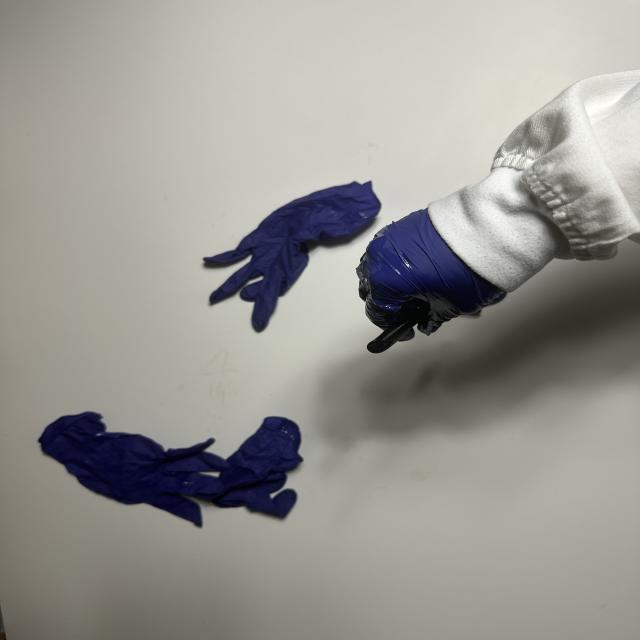gloves_contaminated: (356, 210, 506, 335)
